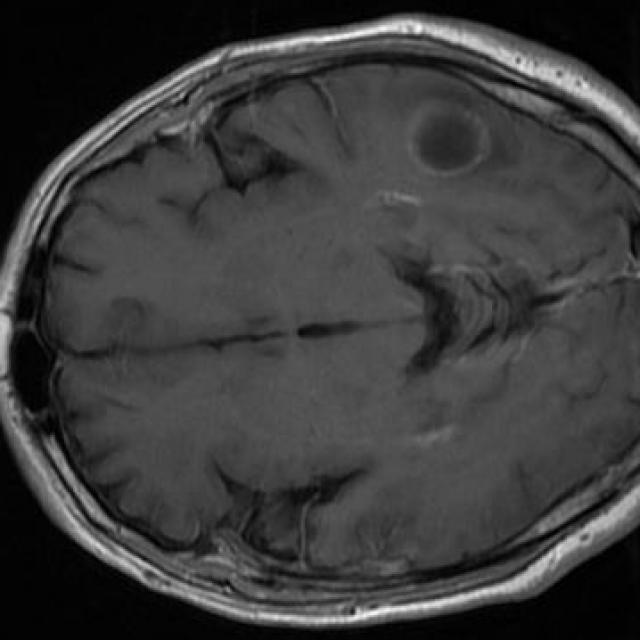glioma: (410, 102, 492, 176)
